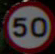Speed limit: (4, 3, 51, 46)
